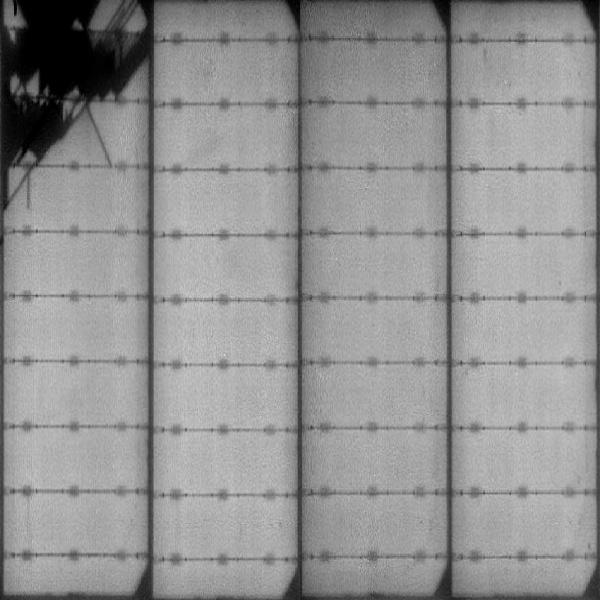broken: (1, 1, 152, 210)
